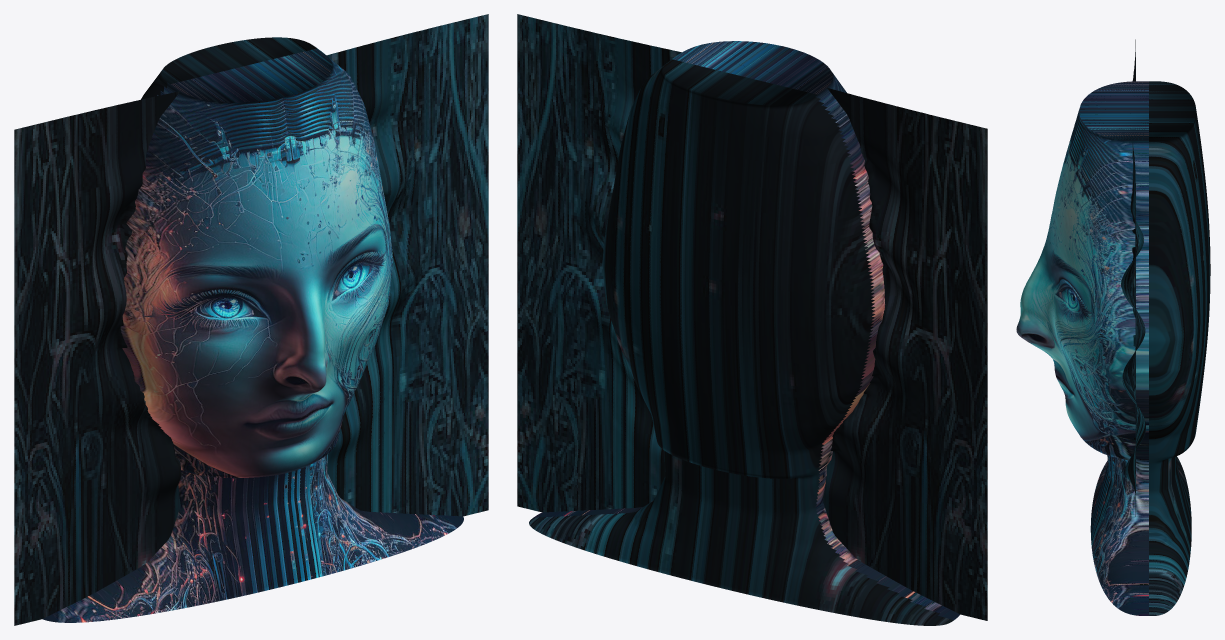
Rendered from eris-hologram.fbx.
3 views of the same model, side by side, from view 1: azimuth 30°, elevation 25°; view 2: azimuth 150°, elevation 25°; view 3: azimuth 270°, elevation 25° (orthographic). The views are drawn at different scales.
Visible parts, largest first — view 1: Eris filaments, Eris bust; view 2: Eris bust, Eris filaments; view 3: Eris bust, Eris filaments.
Part boxes in pixels (x1,y1,x2,y2): Eris filaments: (14, 14, 488, 625); Eris bust: (42, 37, 463, 622); Eris bust: (529, 41, 959, 625); Eris filaments: (517, 14, 987, 620); Eris bust: (1016, 81, 1210, 615); Eris filaments: (1121, 39, 1145, 516).
Bounding box in the file's own units: 360 × 360 × 152.
Materials: 3 (3 with a texture image).
